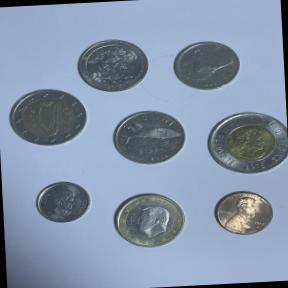coin: (201, 106, 288, 184), (107, 189, 194, 255), (5, 86, 91, 152), (108, 102, 190, 170), (73, 34, 155, 96), (208, 186, 280, 241), (32, 178, 96, 230)
